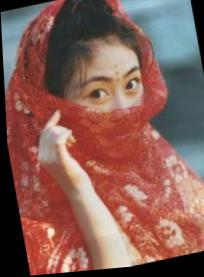WRONG: (69, 56, 156, 171)
